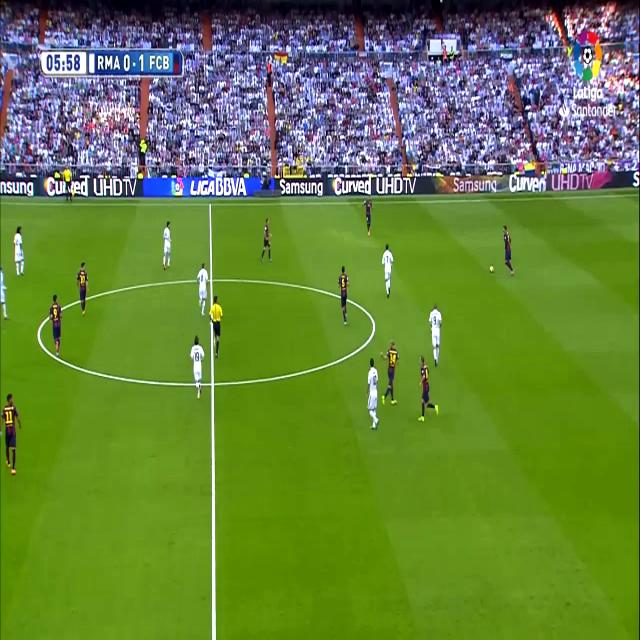halfcircle_bottom: (207, 370, 219, 396)
halfcircle_top: (208, 268, 216, 288)
midline_bottom_intersection: (206, 370, 218, 396)
midline_top_intersection: (206, 197, 214, 210)
